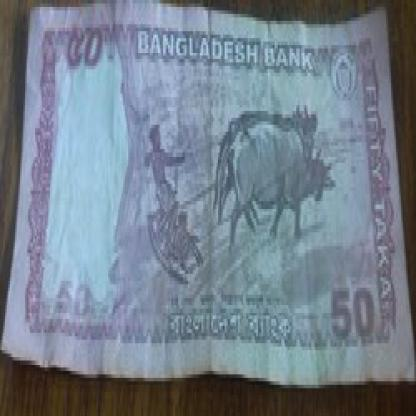Fifty taka: (318, 288, 384, 357), (58, 24, 115, 94)
